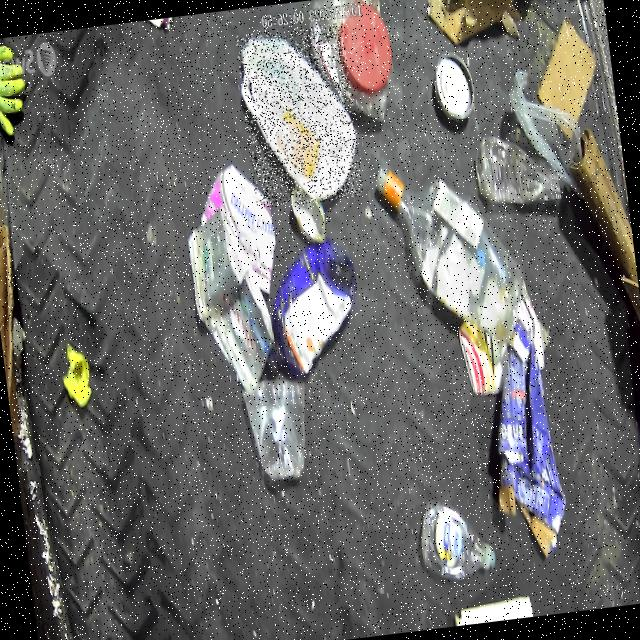milk-jug: (234, 21, 362, 208)
